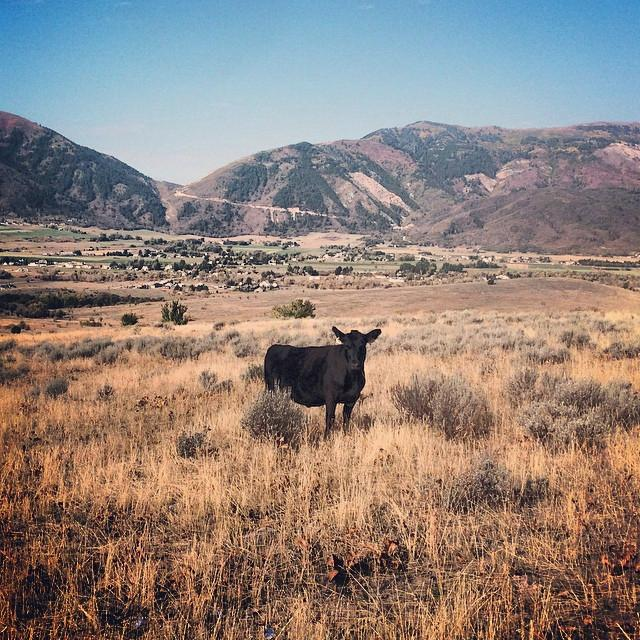cow: (266, 326, 379, 437)
